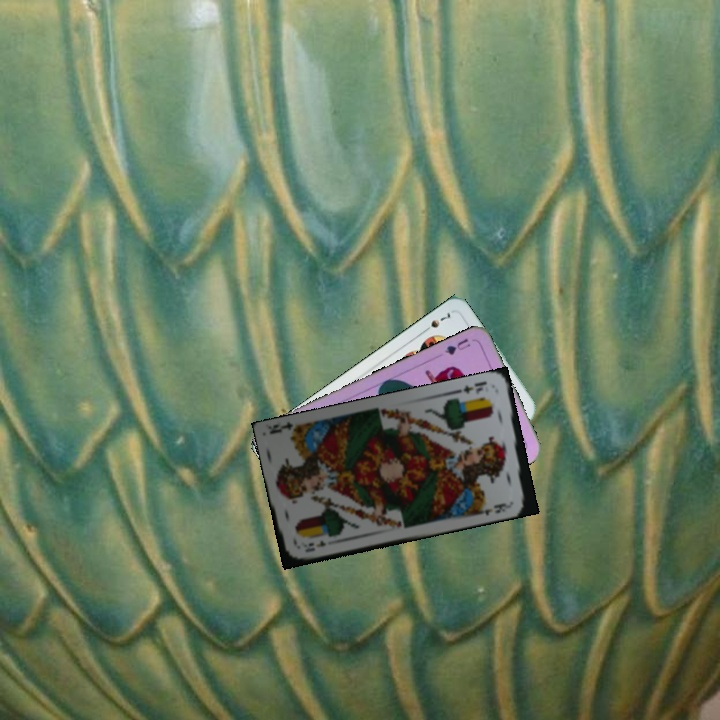EK: (453, 377, 489, 397), (301, 537, 329, 555)
GU: (440, 334, 473, 358)
S7: (419, 308, 455, 335)
